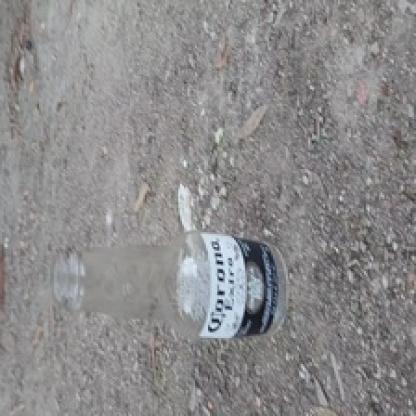Can: (49, 229, 294, 341)
